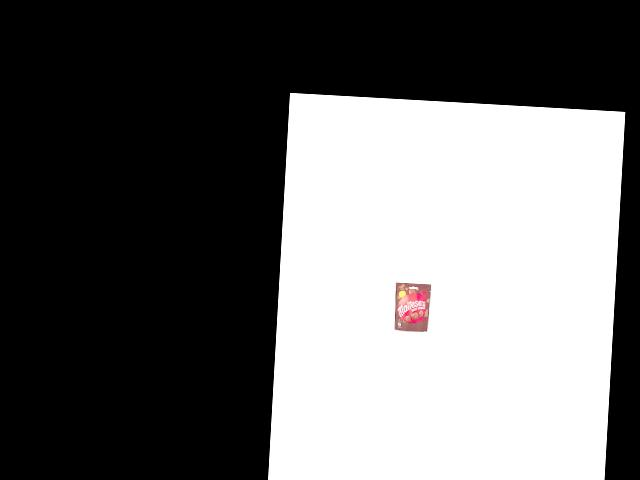chocolate: (393, 281, 432, 333)
